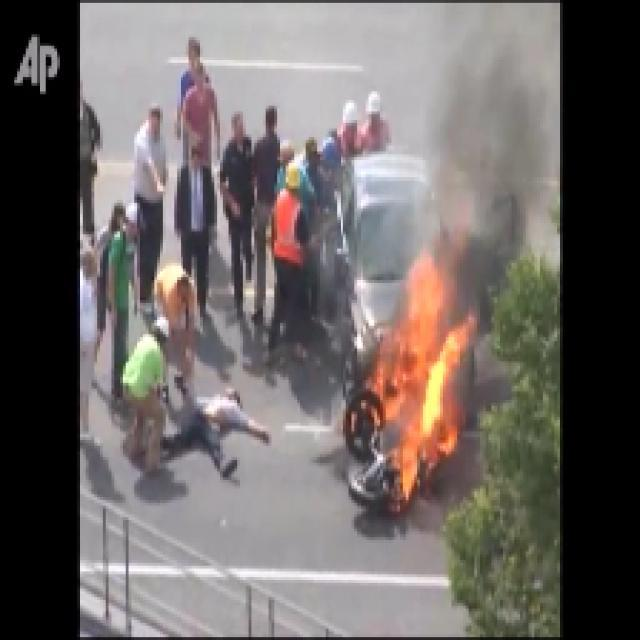Fire: (357, 248, 474, 503)
Smoke: (402, 2, 558, 248)
